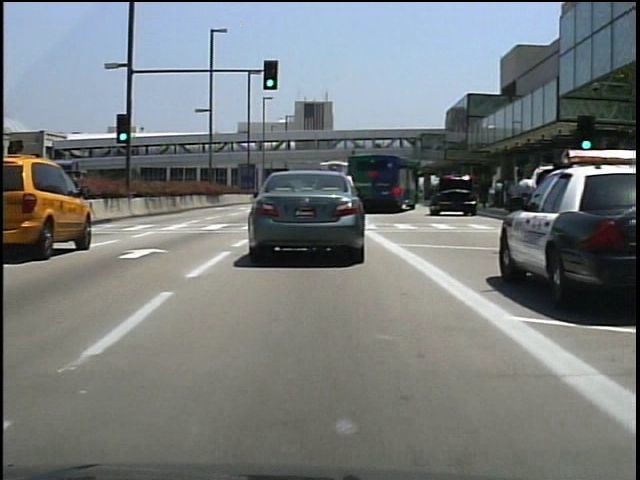person: (499, 164, 537, 260), (62, 173, 82, 221), (43, 168, 59, 224)
